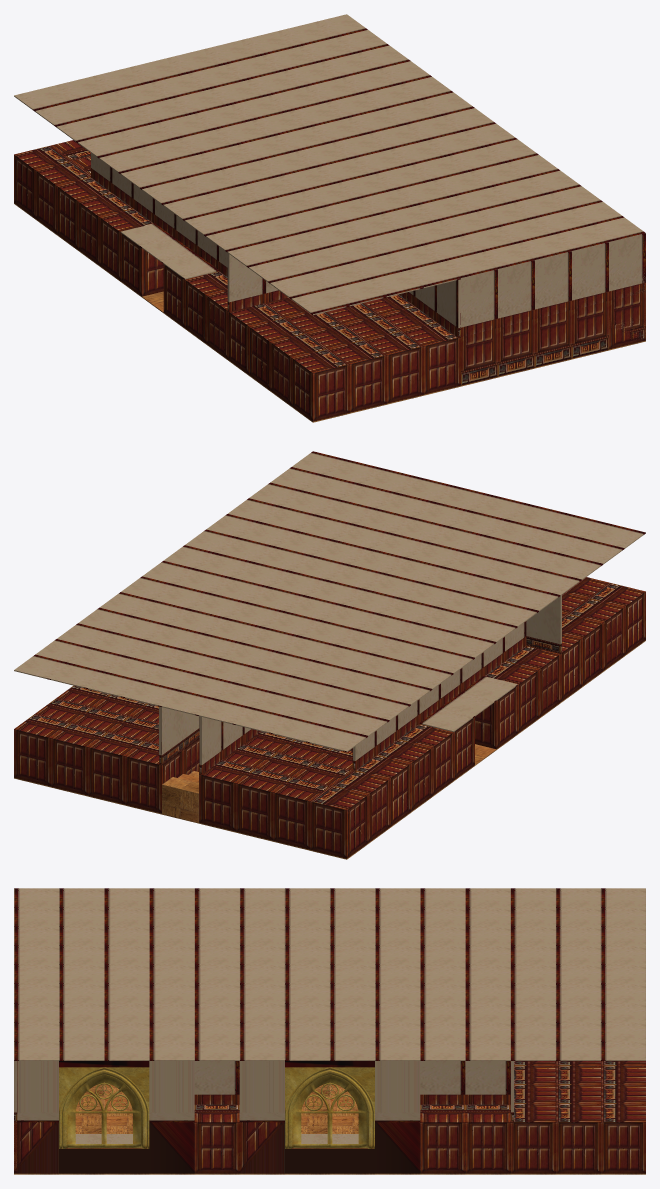
File: MusicRoom.fbx
The picture shows the model from 3 angles, top to bottom: view 1: azimuth 30°, elevation 25°; view 2: azimuth 150°, elevation 25°; view 3: azimuth 270°, elevation 25°; orthographic projection. The views are drawn at different scales.
Parts seen in each view (by area): view 1: MusicRoomWallB0Back.010, MusicRoomWallB0Left.002, MusicRoomWallB0Left, MusicRoomWallB0Front.002, MusicRoomWallB0Front, MusicRoomWallB0Left.001, MusicRoomEntranceCeiling, MusicRoomWallB0Left.013, MusicRoomWallB0Front.001, MusicRoomWallB0Left.014, MusicRoomWallB0Left.004, MusicRoomWallB0Left.011 (+5 smaller); view 2: MusicRoomWallB0Back.010, MusicRoomWallB0Back, MusicRoomWallB0Left, MusicRoomWallB0Back.001, MusicRoomWallB0Left.002, MusicRoomWallB0Left.001, MusicRoomWallB0Left.013, MusicRoomEntranceCeiling, MusicRoomWallB0Left.004, MusicRoomStairs, MusicRoomWallB0Back.009, MusicRoomWallB0Back.006 (+3 smaller); view 3: MusicRoomWallB0Back.010, MusicRoomWallB0Back, MusicRoomWallWindow, MusicRoomWallWindow.001, MusicRoomWallB0Right, MusicRoomFloorB0, MusicRoomWallWindow.003, MusicRoomWallWindow.002, MusicRoomWallB0Right.001, MusicRoomWallB0Right.004, MusicRoomWallB0Right.005, MusicRoomWallB0Right.003 (+1 smaller).
Boxes of the visible parts, x1=… form: MusicRoomWallB0Back.010: x1=14, y1=14, x2=645, y2=315; MusicRoomWallB0Left.002: x1=227, y1=294, x2=460, y2=421; MusicRoomWallB0Left: x1=14, y1=145, x2=163, y2=296; MusicRoomWallB0Front.002: x1=461, y1=234, x2=645, y2=327; MusicRoomWallB0Front: x1=461, y1=292, x2=645, y2=385; MusicRoomWallB0Left.001: x1=163, y1=264, x2=227, y2=358; MusicRoomEntranceCeiling: x1=120, y1=223, x2=218, y2=279; MusicRoomWallB0Left.013: x1=91, y1=153, x2=227, y2=267; MusicRoomWallB0Front.001: x1=461, y1=282, x2=645, y2=337; MusicRoomWallB0Left.014: x1=409, y1=279, x2=460, y2=328; MusicRoomWallB0Left.004: x1=91, y1=168, x2=227, y2=276; MusicRoomWallB0Left.011: x1=227, y1=253, x2=278, y2=302; MusicRoomWallB0Back.010: x1=14, y1=451, x2=645, y2=752; MusicRoomWallB0Back: x1=14, y1=685, x2=199, y2=813; MusicRoomWallB0Left: x1=310, y1=717, x2=474, y2=858; MusicRoomWallB0Back.001: x1=199, y1=731, x2=352, y2=849; MusicRoomWallB0Left.002: x1=560, y1=577, x2=645, y2=701; MusicRoomWallB0Left.001: x1=475, y1=645, x2=560, y2=749; MusicRoomWallB0Left.013: x1=352, y1=621, x2=526, y2=760; MusicRoomEntranceCeiling: x1=419, y1=676, x2=517, y2=732; MusicRoomWallB0Left.004: x1=352, y1=636, x2=526, y2=770; MusicRoomStairs: x1=162, y1=771, x2=198, y2=822; MusicRoomWallB0Back.009: x1=199, y1=716, x2=250, y2=764; MusicRoomWallB0Back.006: x1=159, y1=706, x2=199, y2=755; MusicRoomWallB0Back.010: x1=14, y1=888, x2=645, y2=1060; MusicRoomWallB0Back: x1=510, y1=1061, x2=645, y2=1173; MusicRoomWallWindow: x1=239, y1=1061, x2=420, y2=1173; MusicRoomWallWindow.001: x1=14, y1=1061, x2=194, y2=1173; MusicRoomWallB0Right: x1=420, y1=1104, x2=510, y2=1173; MusicRoomFloorB0: x1=14, y1=1082, x2=645, y2=1174; MusicRoomWallWindow.003: x1=59, y1=1067, x2=149, y2=1148; MusicRoomWallWindow.002: x1=285, y1=1067, x2=374, y2=1148; MusicRoomWallB0Right.001: x1=194, y1=1104, x2=239, y2=1173; MusicRoomWallB0Right.004: x1=420, y1=1061, x2=510, y2=1094; MusicRoomWallB0Right.005: x1=194, y1=1061, x2=239, y2=1094; MusicRoomWallB0Right.003: x1=420, y1=1094, x2=510, y2=1104.
Bounding box in the file's own units: 1800 × 560 × 2800.
